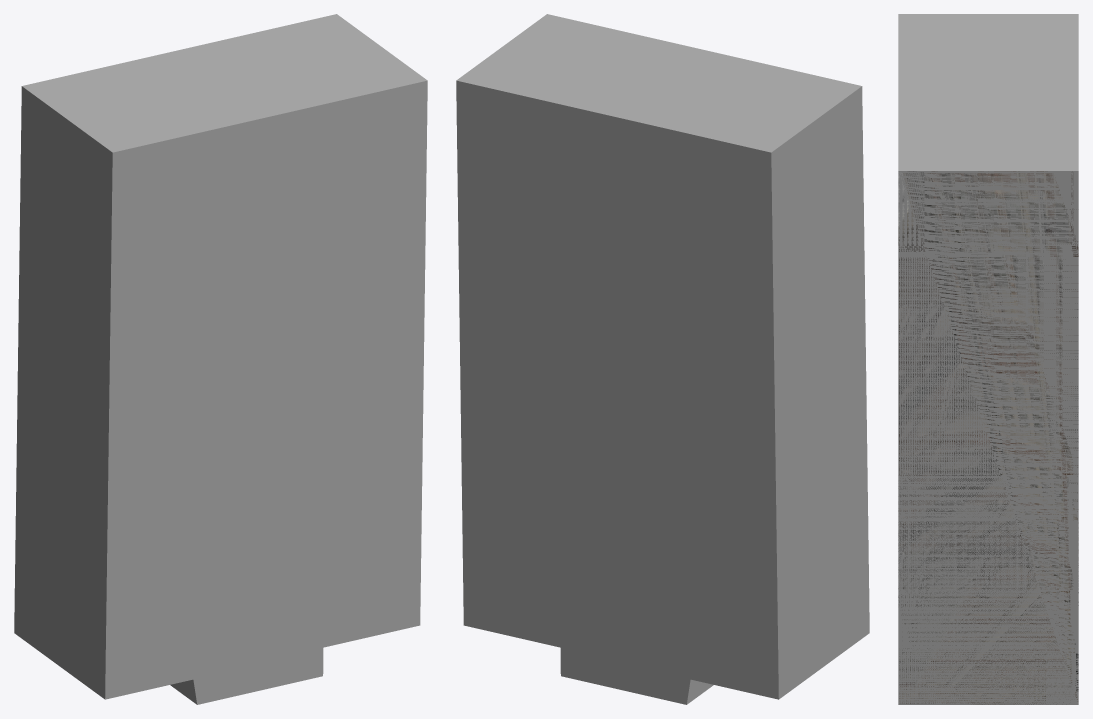
Rendered from my_region_textured.glb.
The picture shows the model from 3 angles, left to right: view 1: azimuth 30°, elevation 25°; view 2: azimuth 150°, elevation 25°; view 3: azimuth 270°, elevation 25°; orthographic projection.
Parts seen in each view (by area): view 1: world; view 2: world; view 3: world.
Boxes of the visible parts, <box> form: world: <box>14,14,427,704</box>; world: <box>456,14,869,704</box>; world: <box>898,14,1078,704</box>.
Bounding box in the file's own units: 50.19 × 85.46 × 24.5.
1 material, 1 textured.
